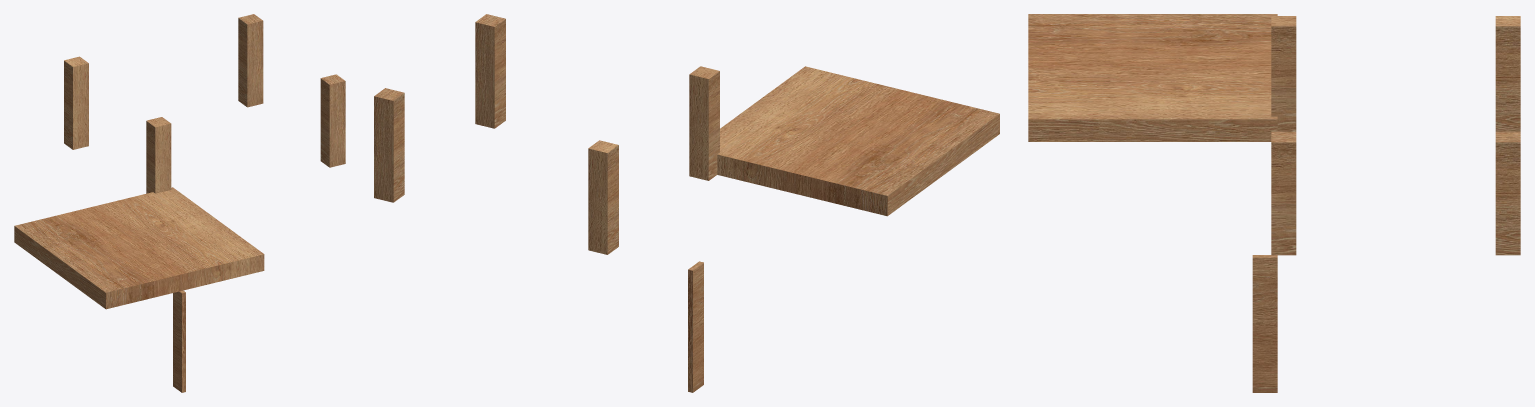
The model's file is 41160_gpt-only.glb.
The picture shows the model from 3 angles, left to right: view 1: azimuth 30°, elevation 25°; view 2: azimuth 150°, elevation 25°; view 3: azimuth 270°, elevation 25°; orthographic projection. The views are drawn at different scales.
Visible parts, largest first — view 1: ParentEmpty; view 2: ParentEmpty; view 3: ParentEmpty.
Part boxes in pixels (x1=…): ParentEmpty: x1=14, y1=14, x2=345, y2=392; ParentEmpty: x1=374, y1=14, x2=999, y2=392; ParentEmpty: x1=1028, y1=14, x2=1520, y2=392.
Bounding box in the file's own units: 1 × 0.771 × 0.9517.
Materials: 1 (1 with a texture image).
